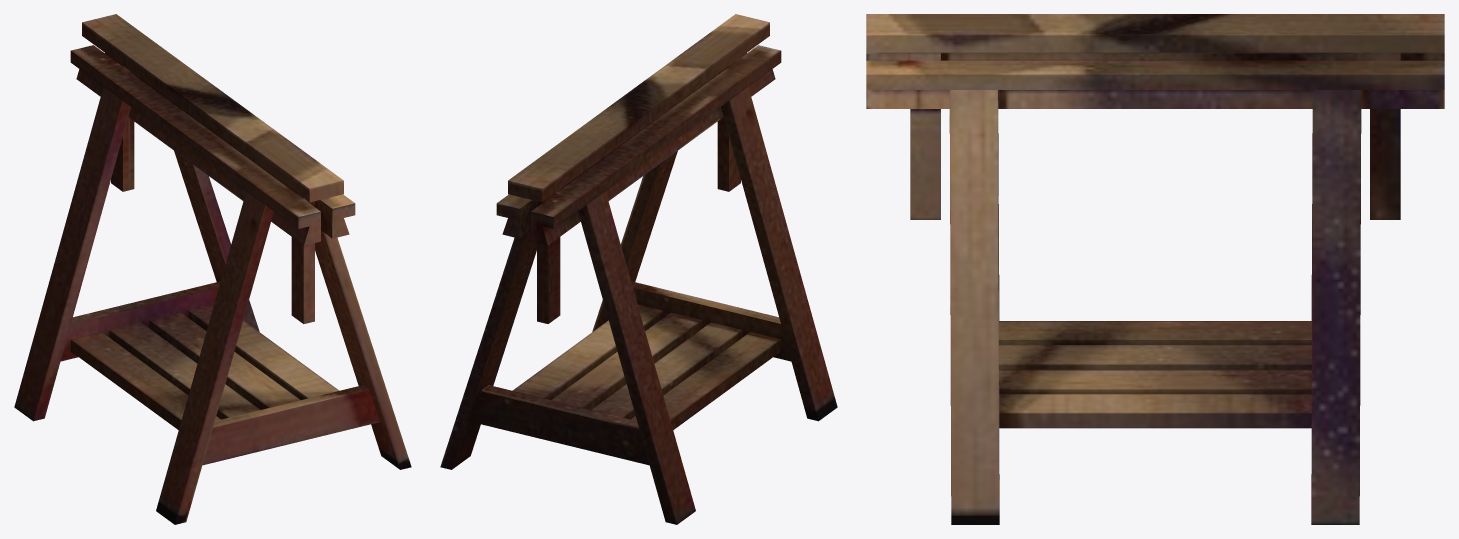
The model's file is trestle_left.glb.
The picture shows the model from 3 angles, left to right: view 1: azimuth 30°, elevation 25°; view 2: azimuth 150°, elevation 25°; view 3: azimuth 270°, elevation 25°; orthographic projection. The views are drawn at different scales.
Visible parts, largest first — view 1: trestle_left; view 2: trestle_left; view 3: trestle_left.
Boxes of the visible parts, x1,y1,x2,y2 form: trestle_left: (14,14,411,524); trestle_left: (440,14,837,524); trestle_left: (866,14,1444,524).
Size of the model in its own units: 3.84 by 5.2 by 6.39.
1 material, 1 textured.
